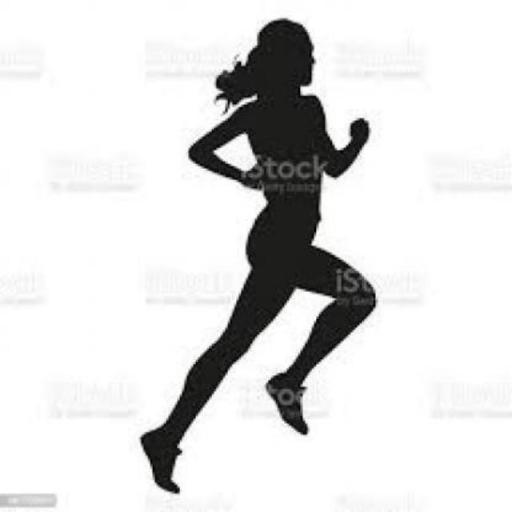Running: (23, 0, 458, 509)
